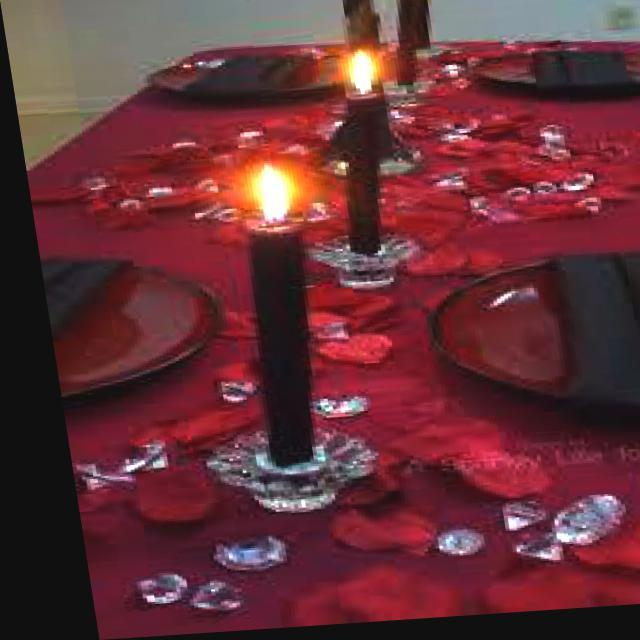Fire: (212, 164, 291, 222), (321, 53, 388, 101)
